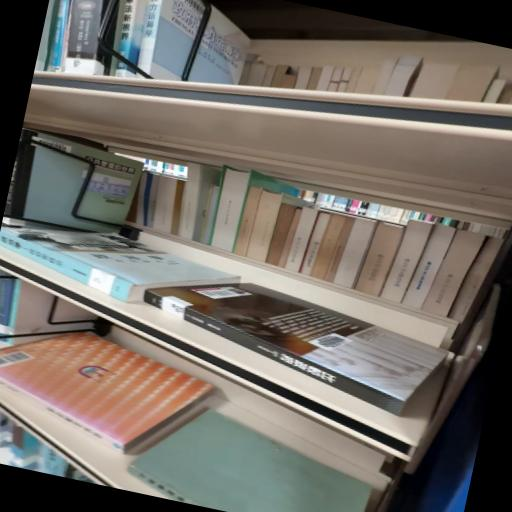flat: (144, 284, 448, 415), (1, 334, 215, 453), (128, 410, 371, 512), (1, 228, 240, 303)
